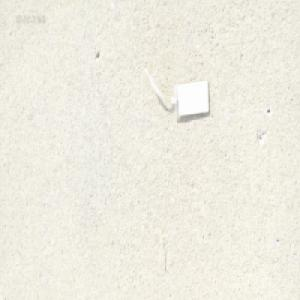LuggageTag: (142, 63, 212, 121)
